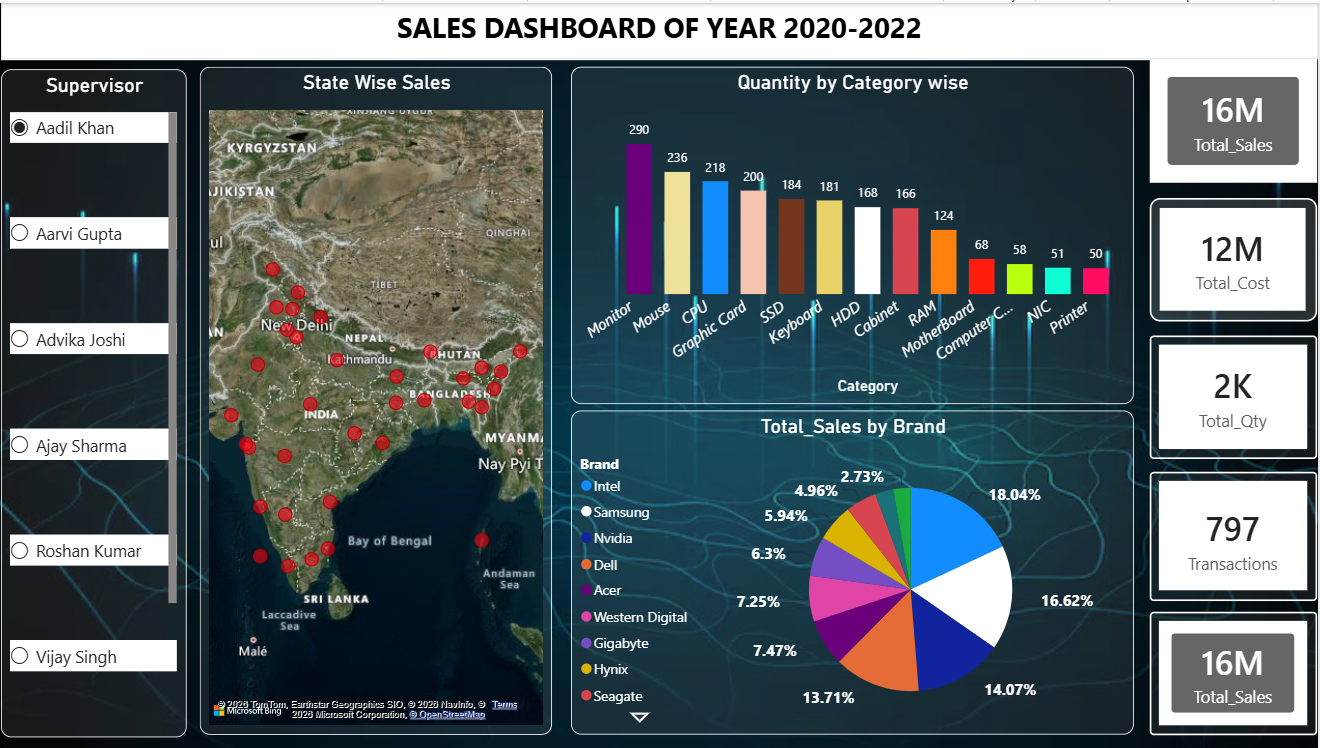

The dashboard page shown, as its layout file describes it:
{"tool":"powerbi","page":{"name":"Page 1","canvas":[1280,720],"ordinal":0},"visuals":[{"type":"textbox","box":[9.6,0,1270.7,54.9],"z":0},{"type":"cardVisual","fields":{"Data":["Sum(Sales_Data.Total_Sales)"]},"box":[1118.4,54.9,161.9,119.4],"z":1000},{"type":"cardVisual","fields":{"Data":["Sum(Sales_Data.Quantity)"]},"box":[1118.4,321.1,161.9,119.4],"z":2000},{"type":"cardVisual","fields":{"Data":["Sum(Sales_Data.Total_Cost)"]},"box":[1118.4,188,161.9,119.4],"z":3000},{"type":"cardVisual","fields":{"Data":["CountNonNull(Sales_Data.Order_Number)"]},"box":[1118.4,452.8,161.9,124.9],"z":4000},{"type":"cardVisual","fields":{"Data":["Sum(Sales_Data.Total_Sales)"]},"box":[1118.4,587.3,161.9,119.4],"z":5000},{"type":"clusteredColumnChart","title":"Quantity by Category wise","fields":{"Y":["Sum(Sales_Data.Quantity)"],"Category":["Sales_Data.Category"]},"box":[559.9,61.7,543.4,325.2],"z":6000},{"type":"pieChart","fields":{"Y":["Sum(Sales_Data.Total_Sales)"],"Category":["Sales_Data.Brand"]},"box":[559.9,393.8,543.4,312.9],"z":7000},{"type":"map","fields":{"Category":["State_list.State"]},"box":[201.7,61.7,340.3,644.9],"z":8000},{"type":"listSlicer","fields":{"Values":["Supervisor.Supervisor"]},"box":[9.6,64.5,179,645],"z":9000}]}

Visuals, with their boxes in screenshot pixels (x1, y1, x2, y2), scaled from the page's 1280x720 canvas onto the 1320x748 screenshot:
textbox: (left=10, top=0, right=1319, bottom=57)
cardVisual - Sum(Sales_Data.Total_Sales): (left=1153, top=57, right=1319, bottom=181)
cardVisual - Sum(Sales_Data.Quantity): (left=1153, top=334, right=1319, bottom=458)
cardVisual - Sum(Sales_Data.Total_Cost): (left=1153, top=195, right=1319, bottom=319)
cardVisual - CountNonNull(Sales_Data.Order_Number): (left=1153, top=470, right=1319, bottom=600)
cardVisual - Sum(Sales_Data.Total_Sales): (left=1153, top=610, right=1319, bottom=734)
"Quantity by Category wise" clusteredColumnChart: (left=577, top=64, right=1138, bottom=402)
pieChart - Sum(Sales_Data.Total_Sales) x Sales_Data.Brand: (left=577, top=409, right=1138, bottom=734)
map - State_list.State: (left=208, top=64, right=559, bottom=734)
listSlicer - Supervisor.Supervisor: (left=10, top=67, right=194, bottom=737)
